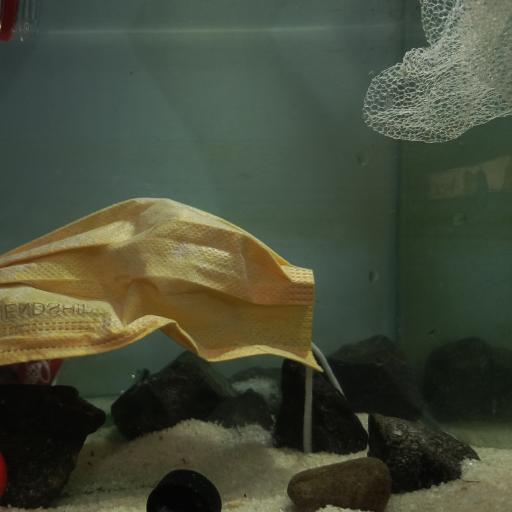bottle_cap: (143, 465, 226, 512)
mask: (2, 195, 326, 379)
net: (358, 0, 512, 147)
plastic_bottle: (5, 355, 157, 398), (0, 0, 38, 49)
